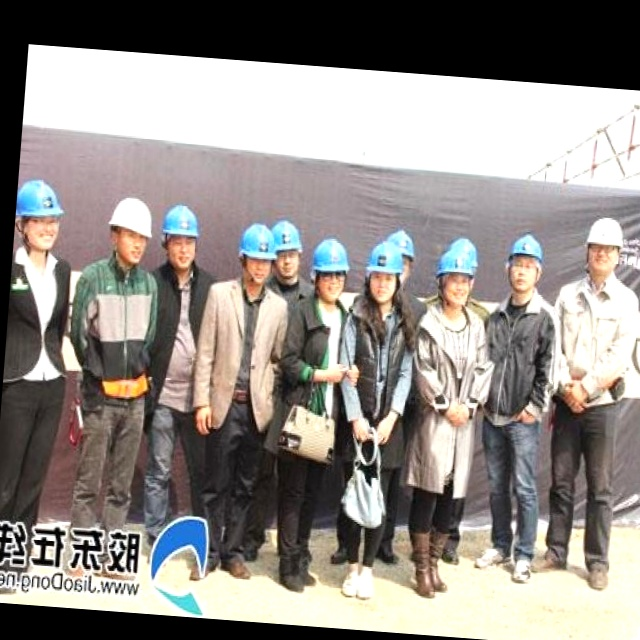Con_Casco: (108, 199, 156, 266), (585, 219, 623, 275)
Sin_Chaleco: (193, 283, 287, 433)
